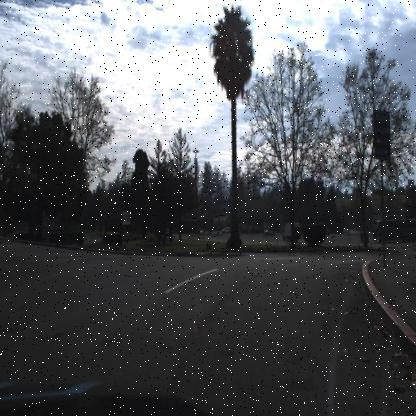car: (258, 223, 274, 238)
truck: (374, 215, 416, 247), (282, 219, 304, 242)
